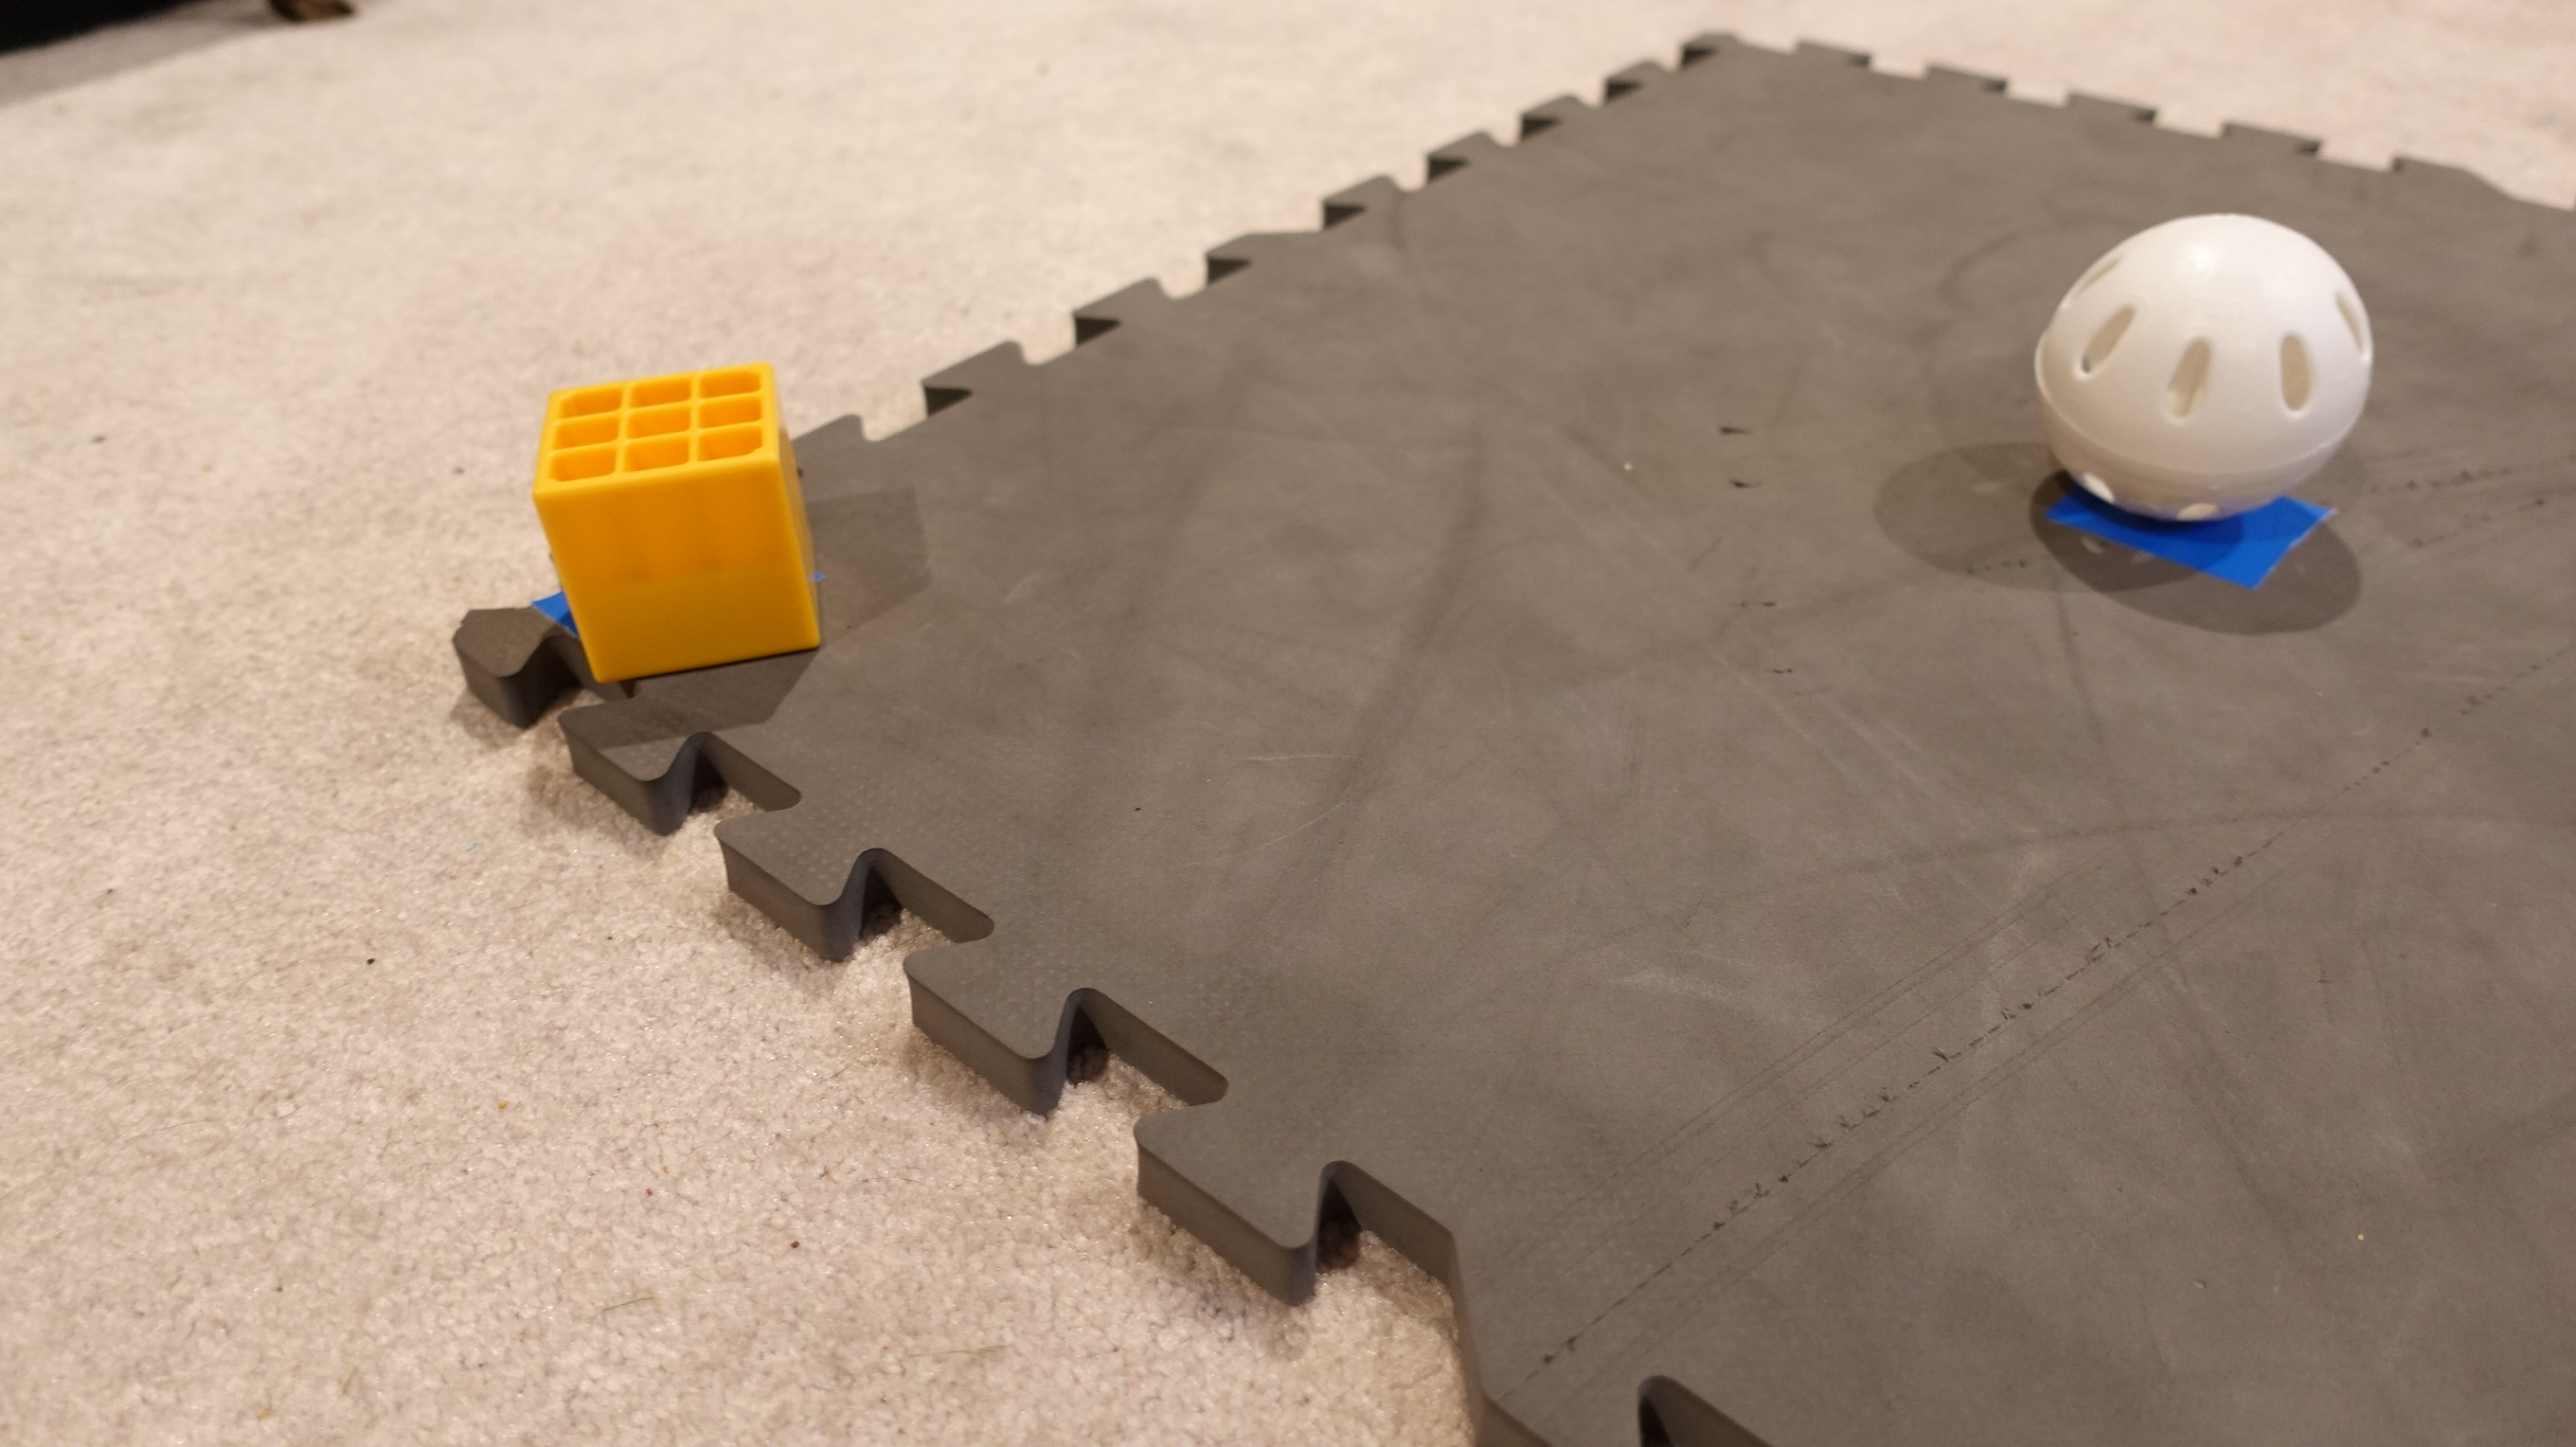gold: (510, 357, 862, 692)
silver: (2029, 205, 2381, 532)
